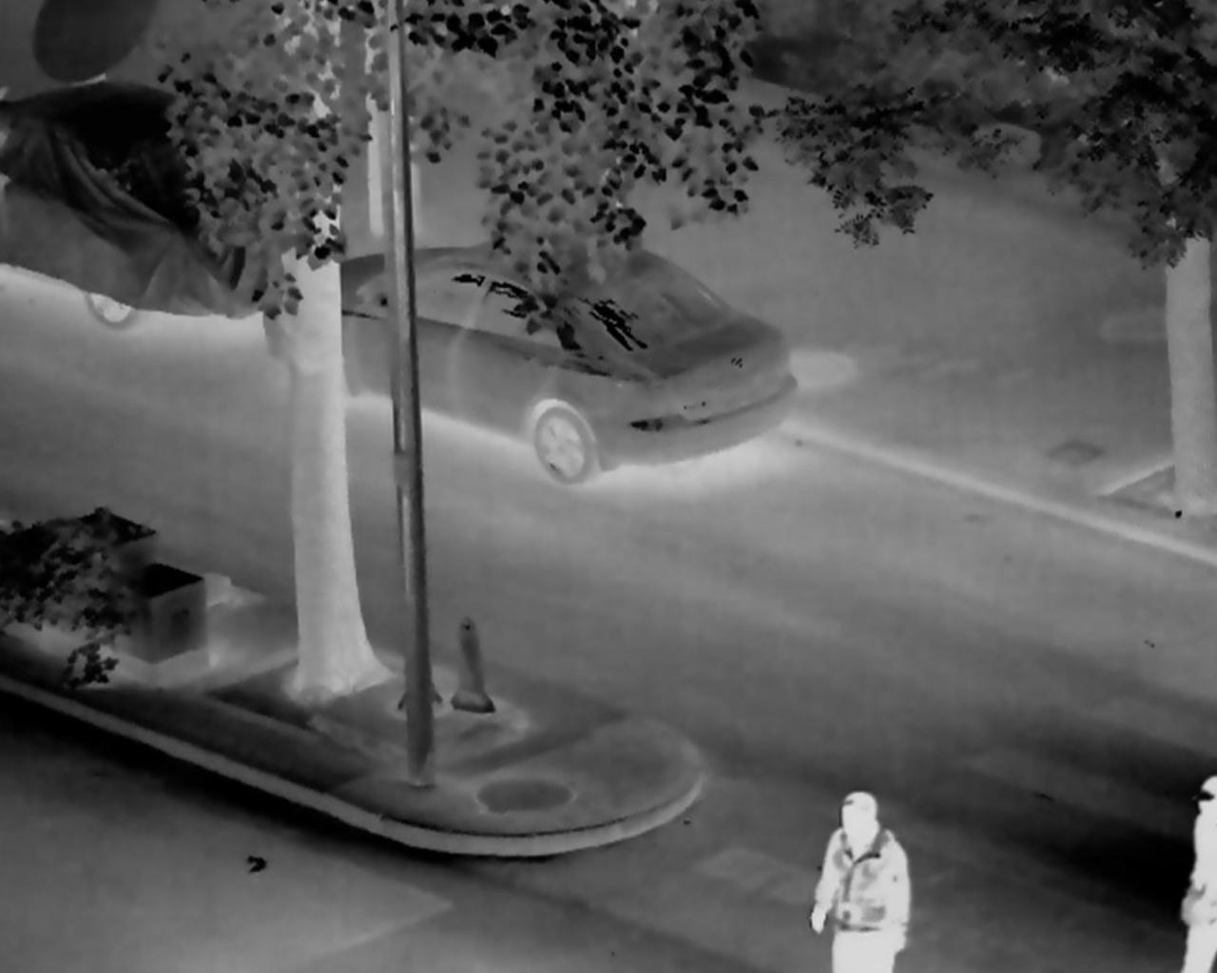person: (806, 790, 911, 973), (1175, 778, 1216, 973)
